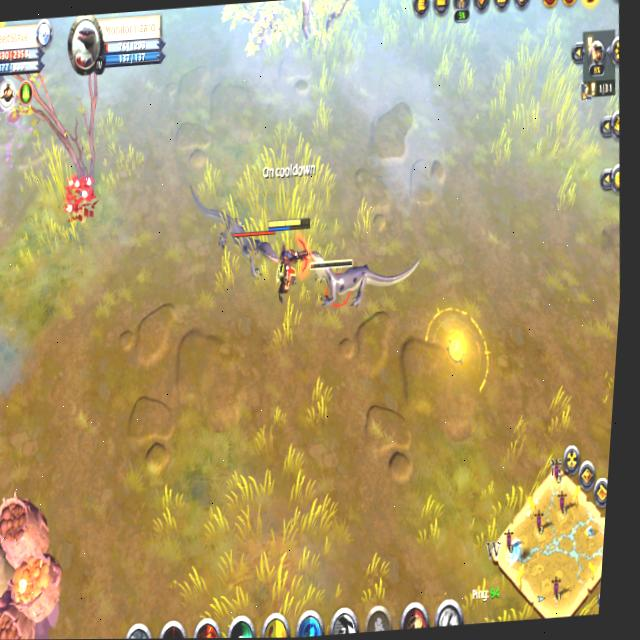hide: (55, 170, 108, 229)
ore: (177, 176, 284, 289), (302, 237, 435, 318)
red: (260, 211, 319, 316)
